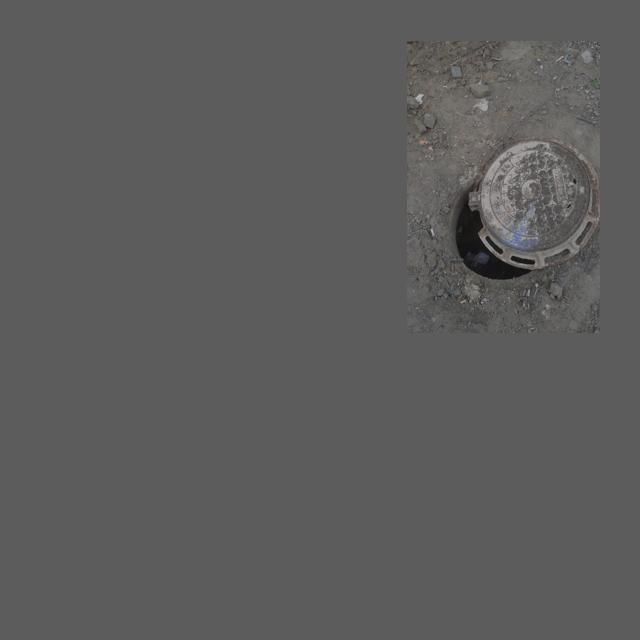uncovered: (451, 137, 598, 278)
